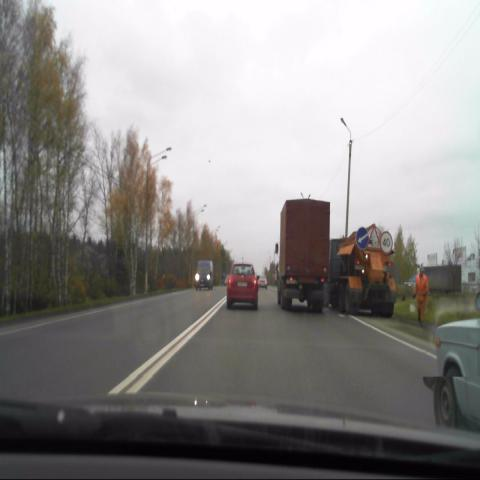1_18: (366, 226, 380, 251)
3_24: (379, 231, 393, 256)
4_2_2: (355, 225, 368, 250)
